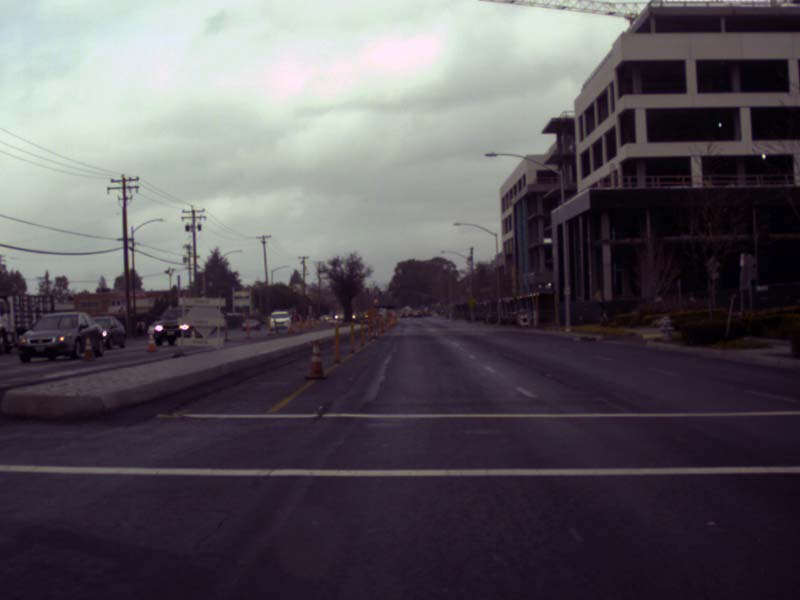Red: (378, 289, 381, 295), (408, 290, 410, 295), (440, 300, 442, 305), (394, 289, 396, 294)
